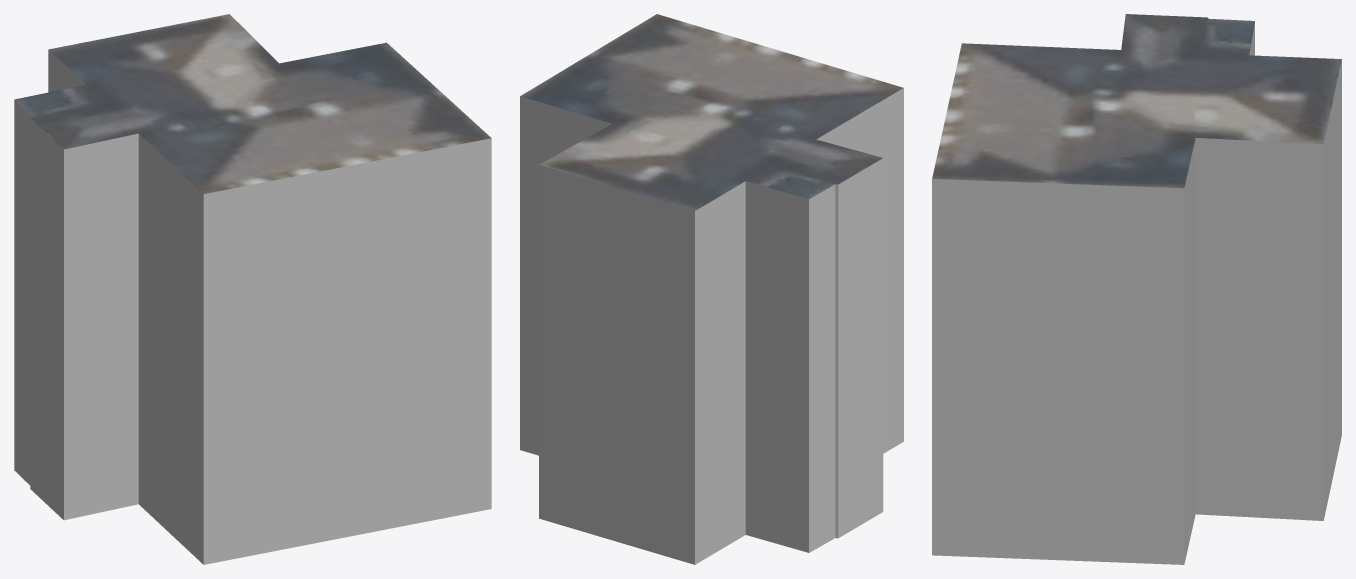
File: DEBW_0010007Tx7j.gltf
The picture shows the model from 3 angles, left to right: view 1: azimuth 30°, elevation 25°; view 2: azimuth 150°, elevation 25°; view 3: azimuth 270°, elevation 25°; orthographic projection. The views are drawn at different scales.
Parts seen in each view (by area): view 1: Z_UP; view 2: Z_UP; view 3: Z_UP.
Boxes of the visible parts, <box> form: Z_UP: <box>14,14,491,564</box>; Z_UP: <box>520,14,903,564</box>; Z_UP: <box>932,14,1341,564</box>.
Size of the model in its own units: 15.69 by 15.8 by 15.58.
Materials: 2 (1 with a texture image).
